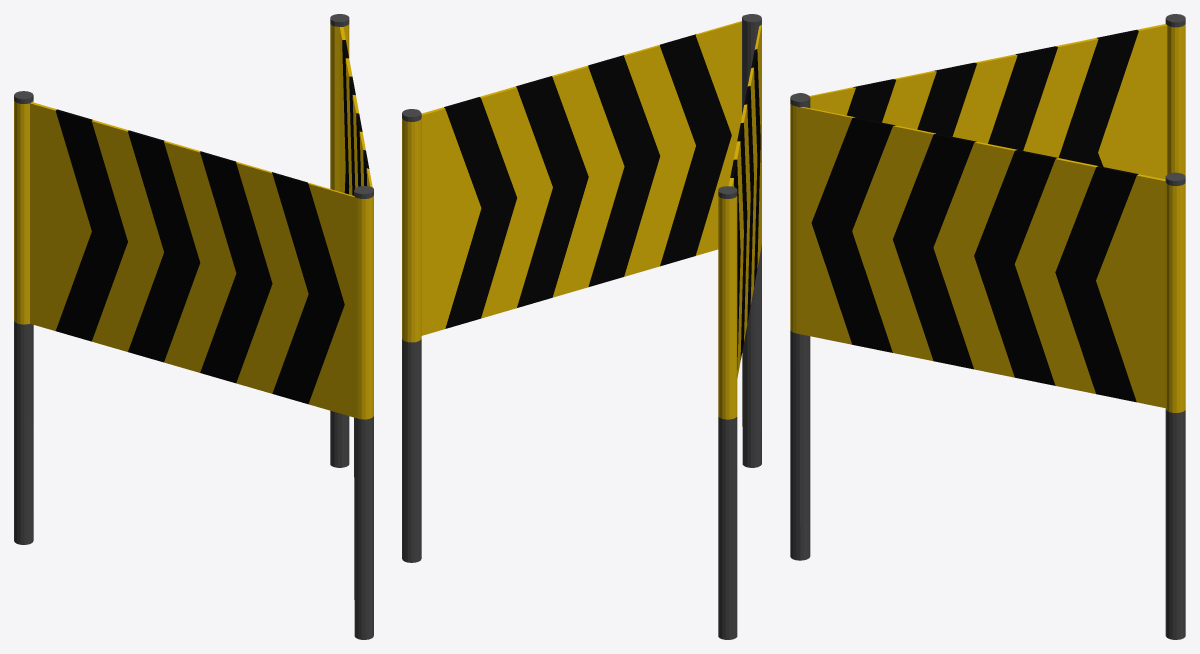
File: Sign.fbx
The picture shows the model from 3 angles, left to right: view 1: azimuth 30°, elevation 25°; view 2: azimuth 150°, elevation 25°; view 3: azimuth 270°, elevation 25°; orthographic projection. The views are drawn at different scales.
Parts seen in each view (by area): view 1: Cylinder; view 2: Cylinder; view 3: Cylinder.
Boxes of the visible parts, x1,y1,x2,y2 form: Cylinder: [14, 14, 373, 639]; Cylinder: [402, 14, 761, 639]; Cylinder: [790, 14, 1185, 639].
Size of the model in its own units: 316 by 404 by 316.
